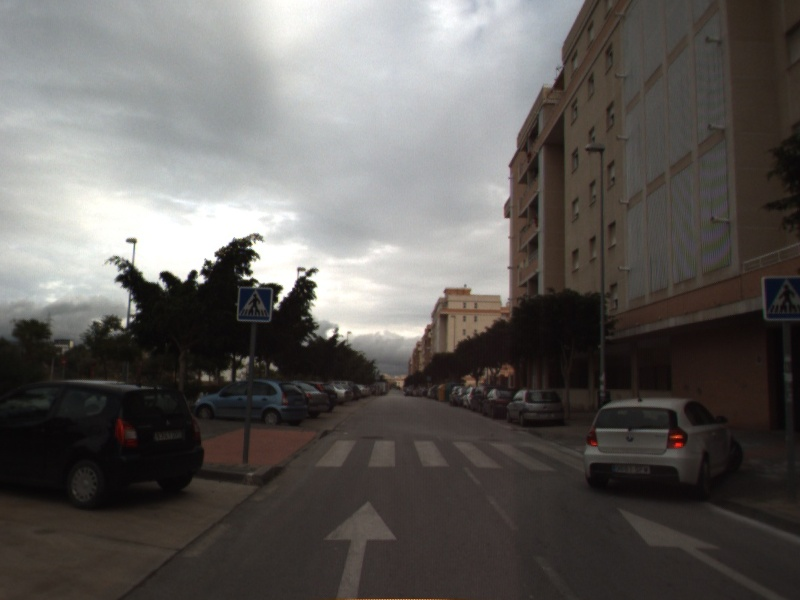STRAIGHT: (615, 506, 790, 600), (321, 499, 399, 600)
